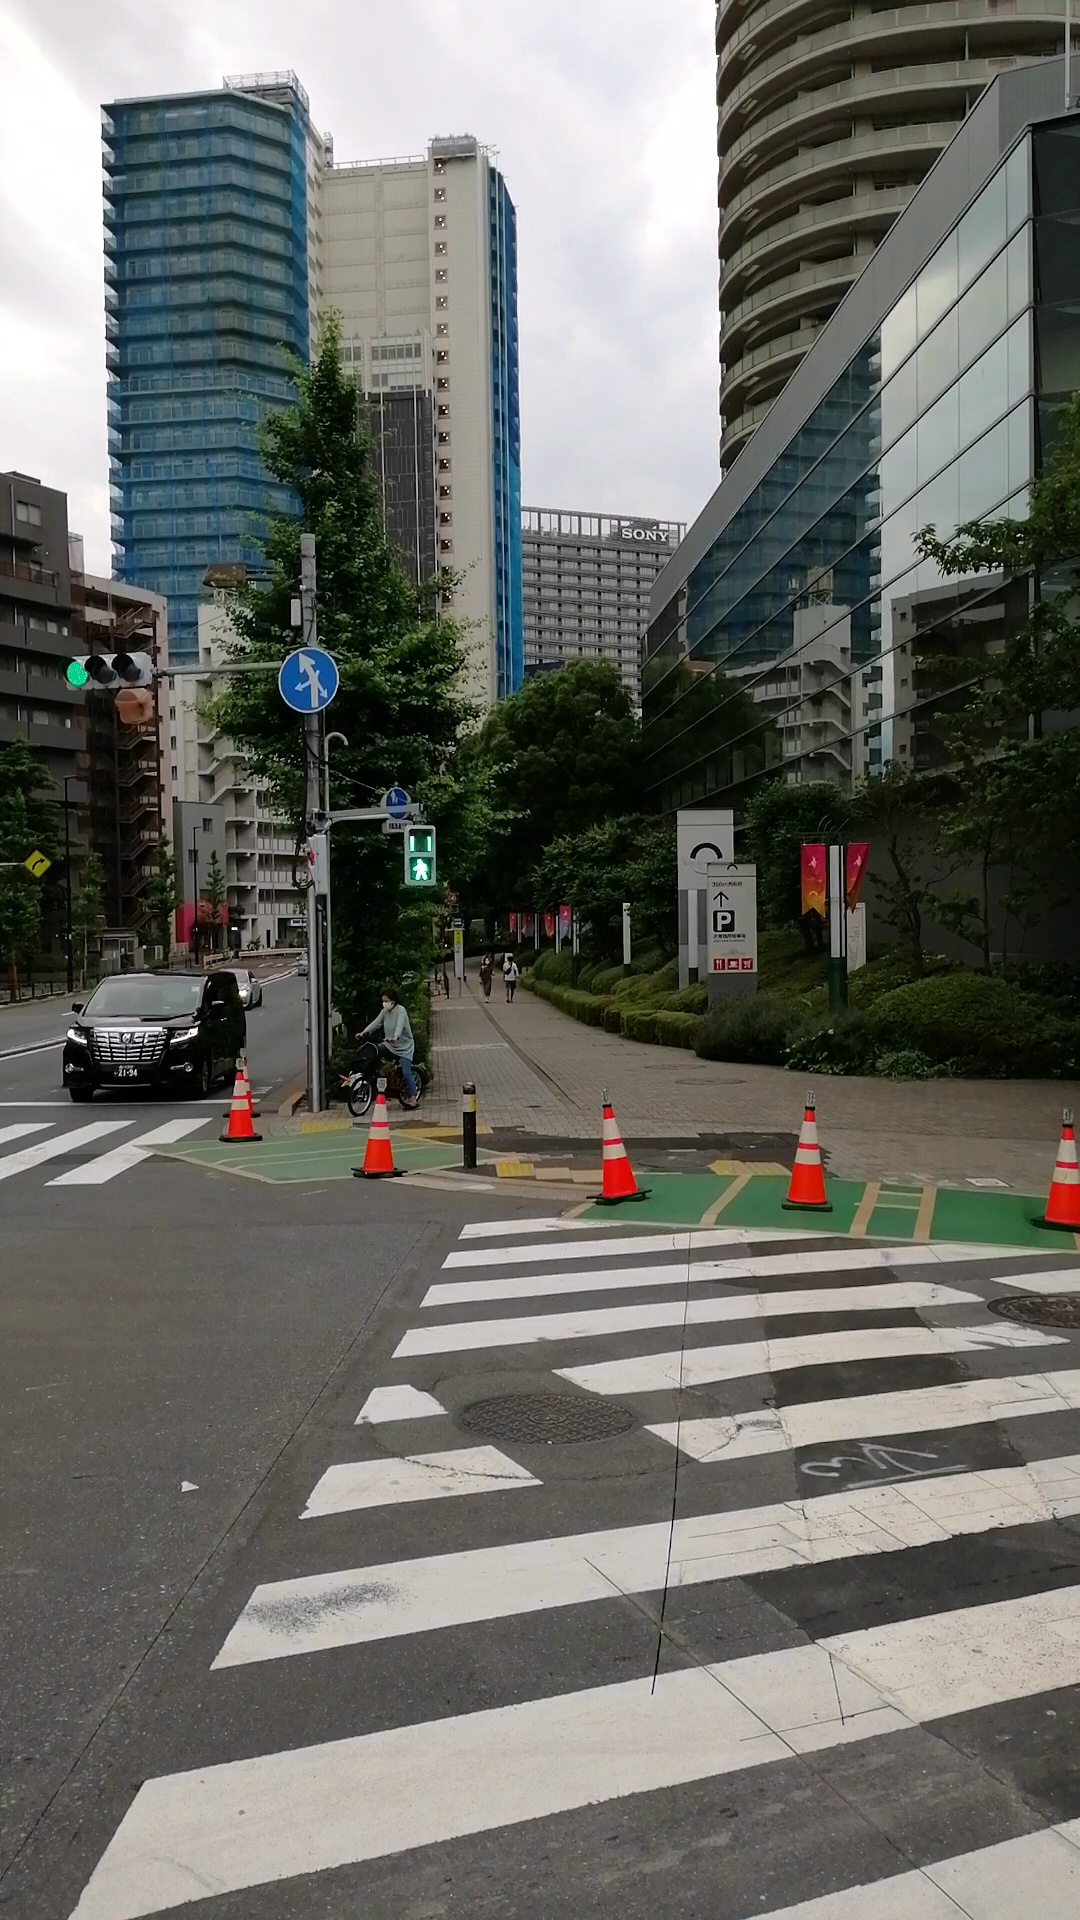green: (404, 825, 436, 886)
